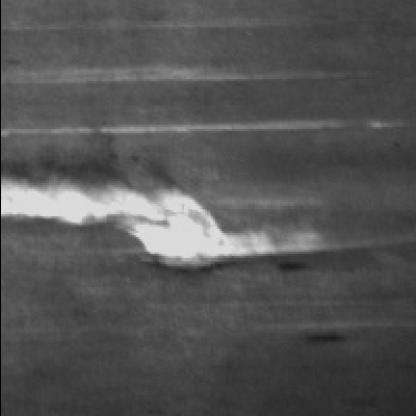scratches: (0, 166, 328, 266), (0, 54, 337, 88), (0, 112, 339, 138)
